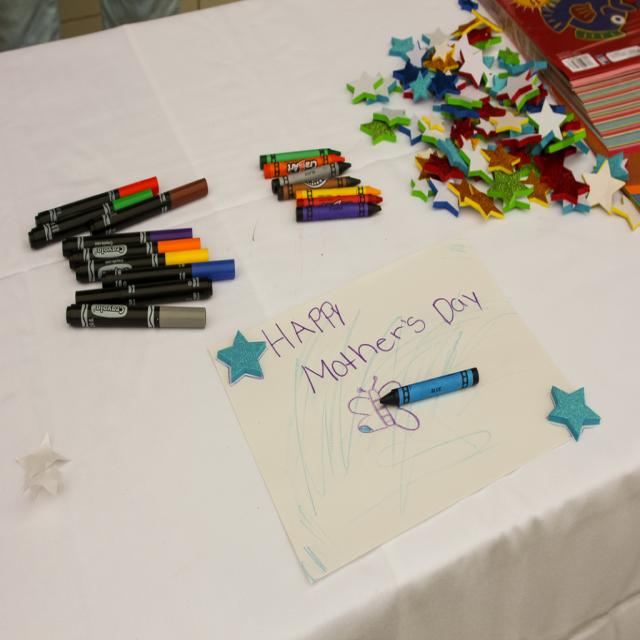pen: (25, 164, 236, 364)
